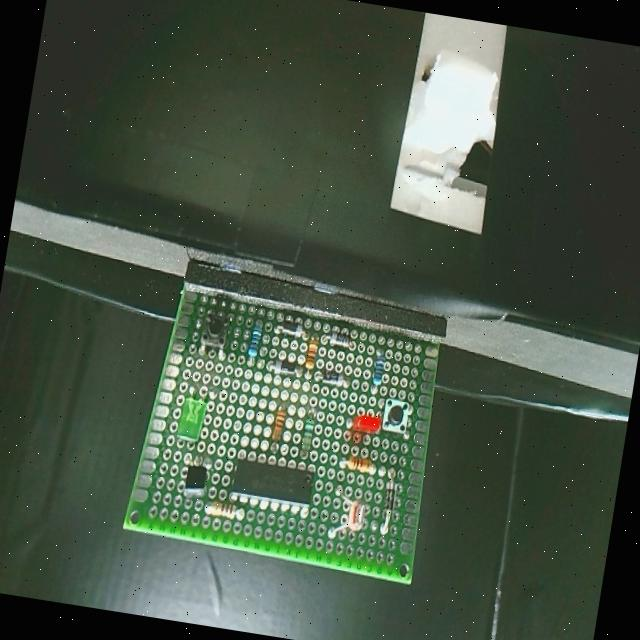IC: (224, 448, 323, 514)
cds: (343, 500, 371, 536)
diode: (376, 478, 401, 522), (322, 322, 354, 354), (274, 317, 307, 341), (270, 359, 300, 382), (318, 368, 349, 388)
led: (173, 392, 209, 448), (348, 406, 383, 435)
resistor: (243, 310, 269, 364), (200, 498, 248, 526), (296, 412, 324, 457), (271, 398, 296, 442), (344, 450, 380, 480), (302, 330, 324, 378), (368, 343, 388, 391)
switch: (197, 307, 233, 357), (380, 397, 412, 434)
transistor: (182, 458, 209, 498)
